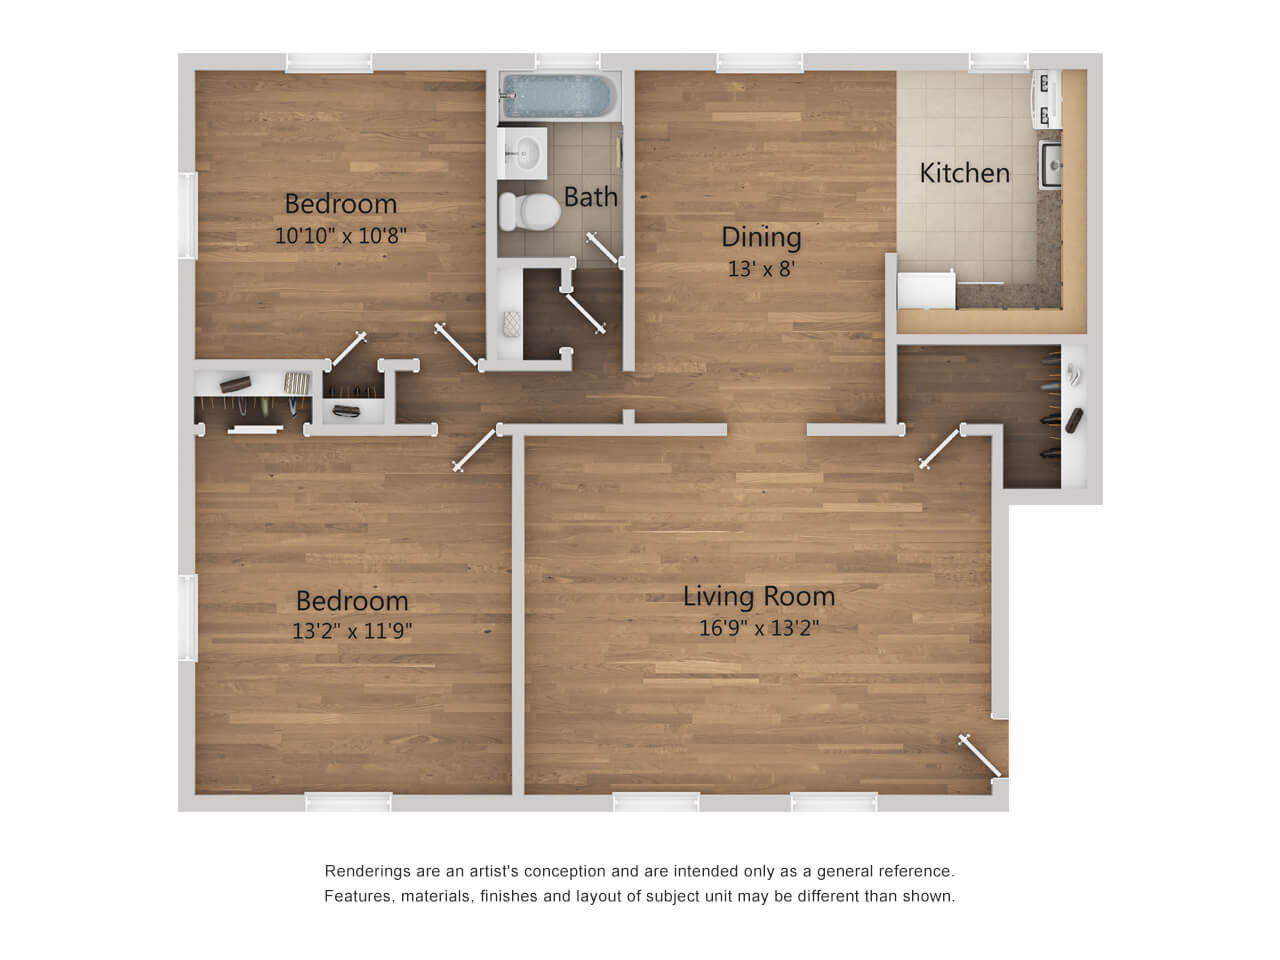room: (488, 55, 635, 267)
